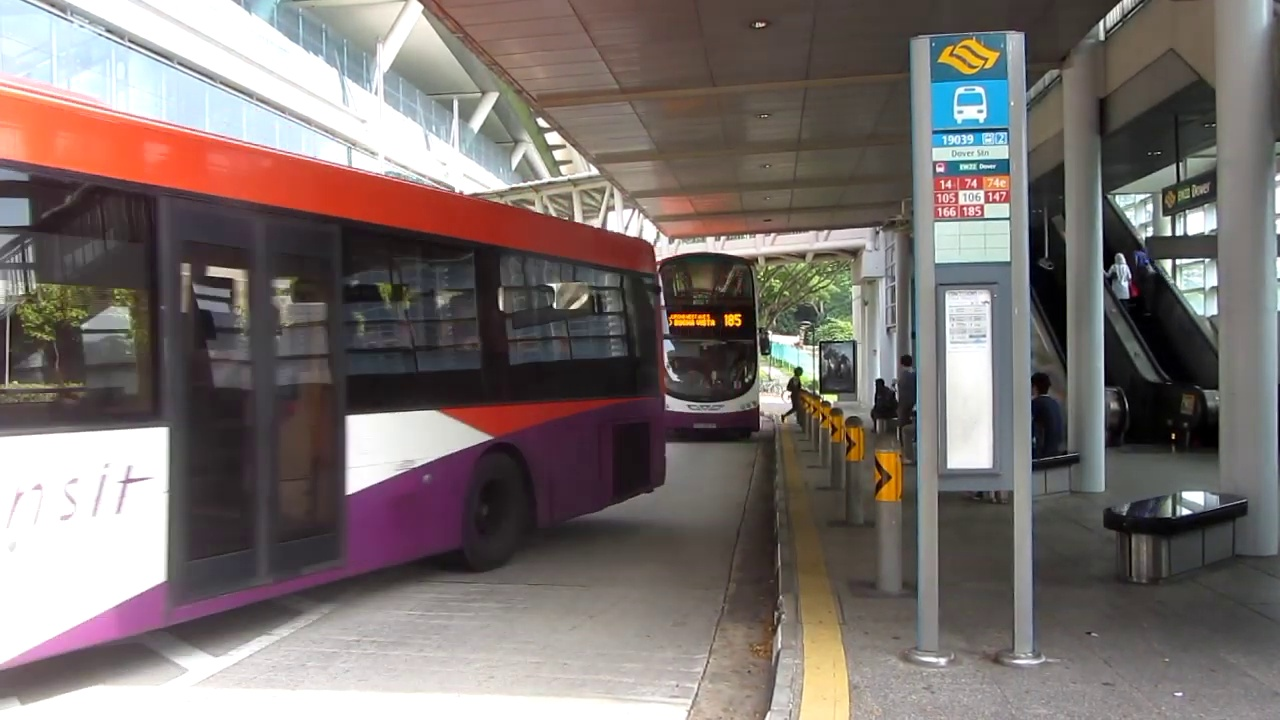bus panel: (665, 312, 745, 330)
